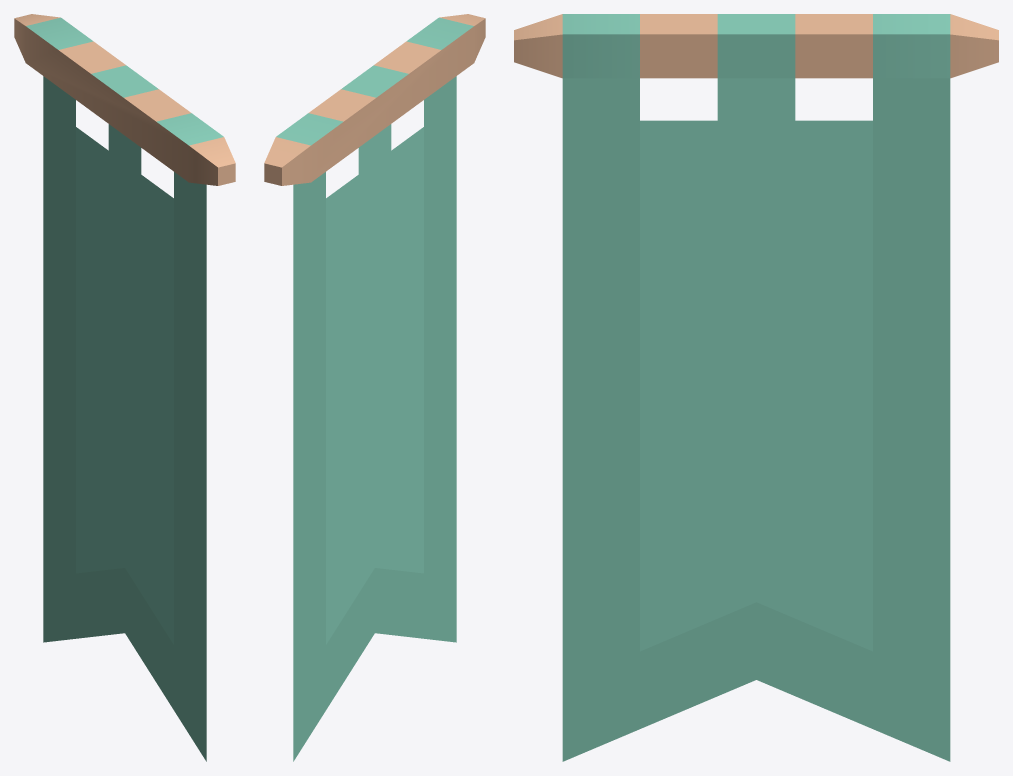
The model's file is banner_green.glb.
The picture shows the model from 3 angles, left to right: view 1: azimuth 30°, elevation 25°; view 2: azimuth 150°, elevation 25°; view 3: azimuth 270°, elevation 25°; orthographic projection. The views are drawn at different scales.
Visible parts, largest first — view 1: bannerGreen; view 2: bannerGreen; view 3: bannerGreen.
Boxes of the visible parts, x1=… form: bannerGreen: x1=14, y1=14, x2=235, y2=761; bannerGreen: x1=264, y1=14, x2=485, y2=761; bannerGreen: x1=514, y1=14, x2=998, y2=761.
Size of the model in its own units: 0.05 by 0.8394 by 0.5.
